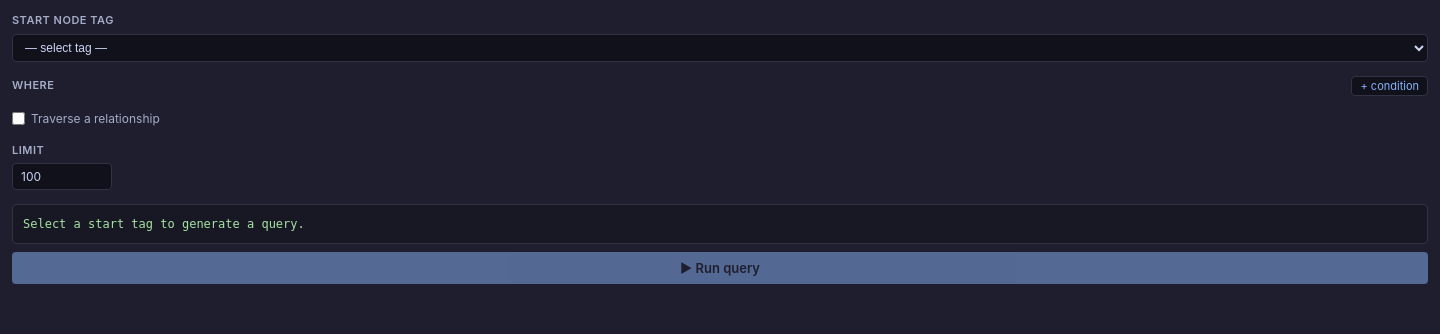
Test: QueryBuilderPanel › adds a WHERE condition
Select "person" in the dropdown with test id "qb-start-tag" at (720, 48), box [12,34,1428,62]
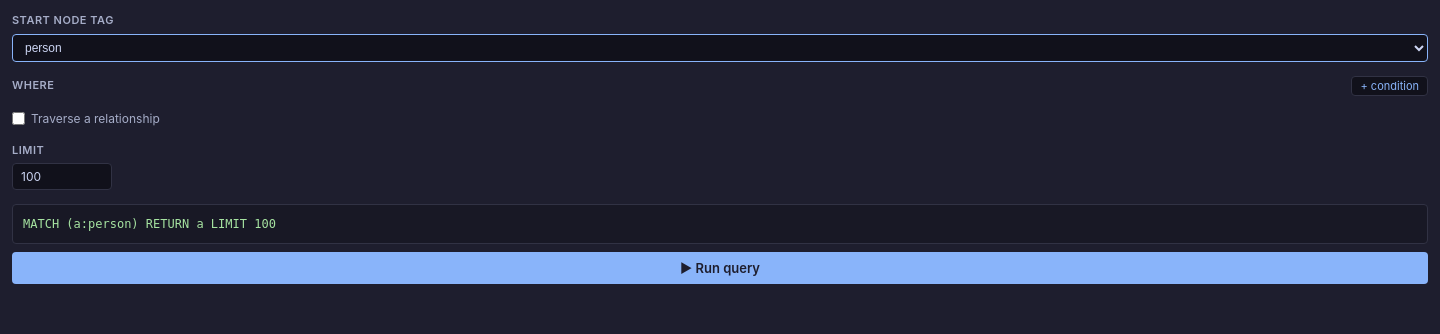
Click the button with test id "qb-add-condition" at (1390, 86), box [1352,76,1428,96]
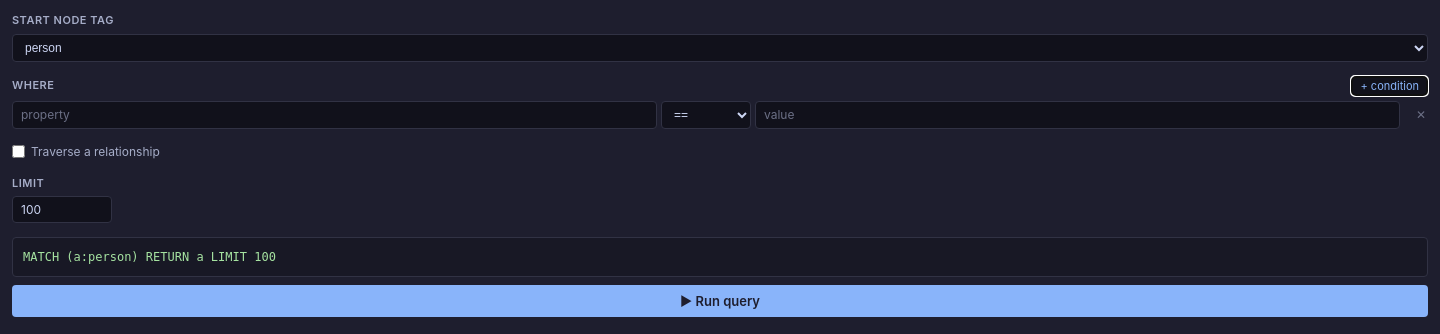
Type "name" into the field with test id "qb-cond-prop-0" at (334, 114), box [12,100,657,128]
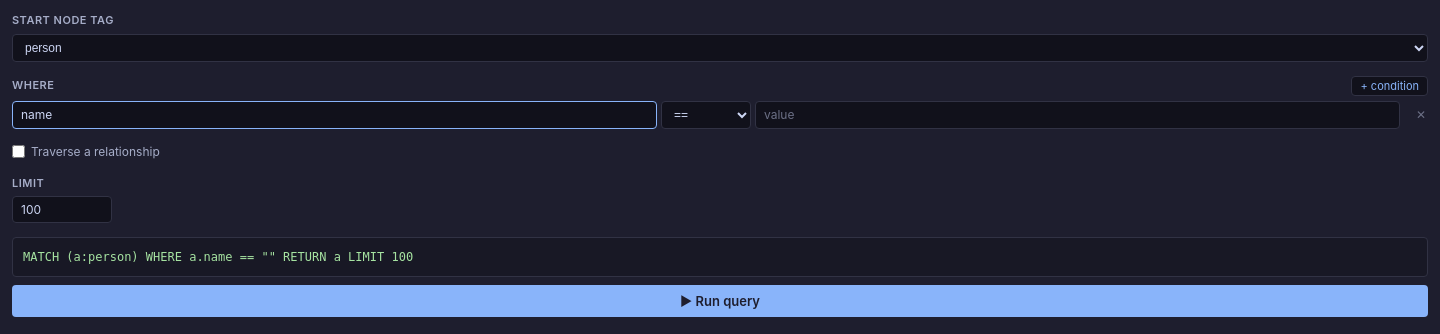
Type "Alice" into the field with test id "qb-cond-value-0" at (1078, 114), box [755,100,1400,128]
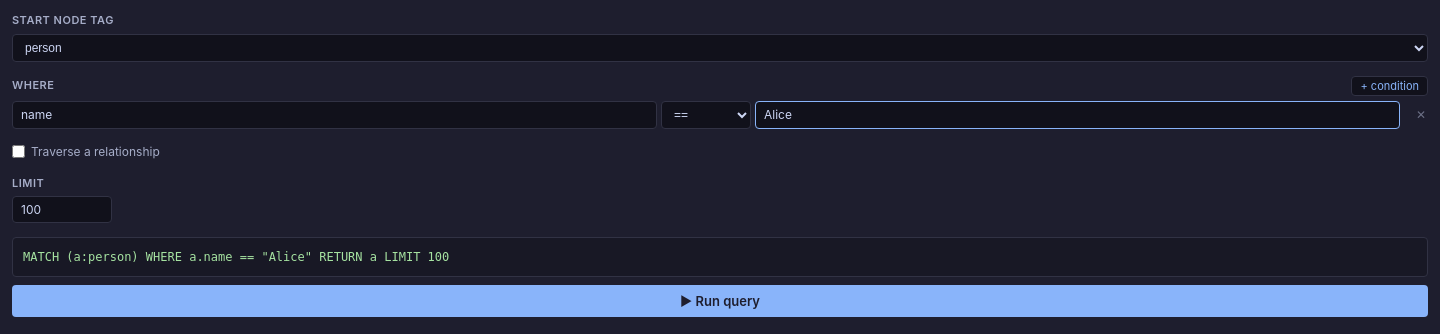
Now the text with test id "qb-preview" reads "MATCH (a:person) WHERE a.name == \"Alice\" RETURN a LIMIT 100", box [23,250,449,264]
